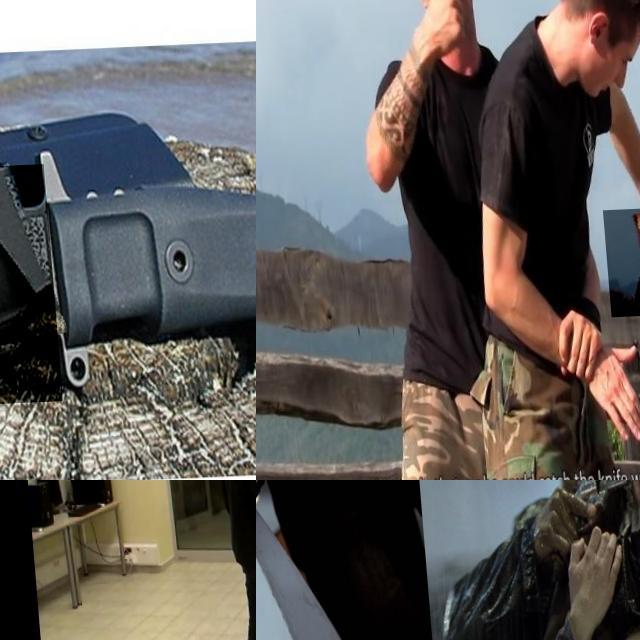-: (0, 167, 186, 417), (597, 211, 640, 321)
gun-knife-thesis - v11 Yolov5 augmented: (526, 480, 633, 615), (434, 480, 501, 547), (256, 480, 296, 550), (256, 480, 284, 520)
